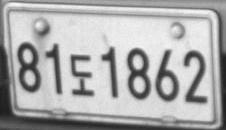1: (43, 42, 68, 95), (98, 46, 123, 98)
2: (182, 49, 208, 103)
6: (154, 49, 179, 101)
8: (15, 41, 41, 92), (126, 47, 151, 100)
도: (69, 53, 94, 95)
